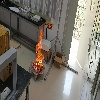fire: (33, 25, 44, 72)
